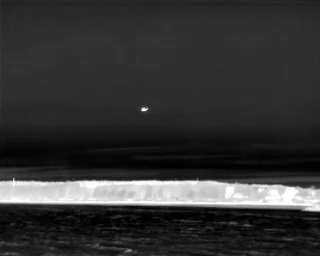HELICOPTER: (137, 103, 152, 118)
